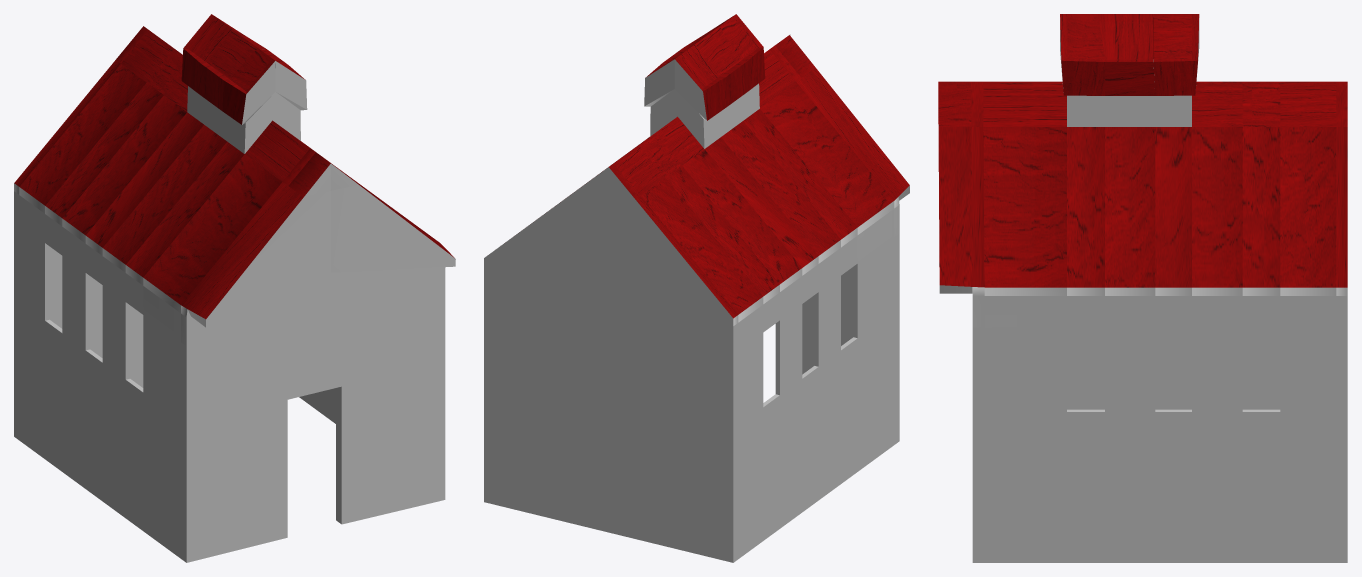
Rendered from ge0_farm.FBX.
3 renders of one model, left to right at view 1: azimuth 30°, elevation 25°; view 2: azimuth 150°, elevation 25°; view 3: azimuth 270°, elevation 25°, orthographic. The views are drawn at different scales.
Parts seen in each view (by area): view 1: Box010; view 2: Box010; view 3: Box010.
Boxes of the visible parts, bbox=[...] form: Box010: bbox=[14, 14, 455, 562]; Box010: bbox=[484, 14, 909, 562]; Box010: bbox=[938, 14, 1347, 562].
Size of the model in its own units: 248 by 404 by 312.
